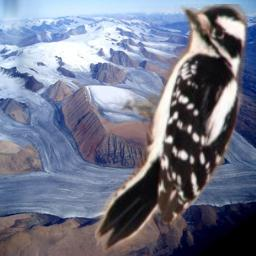Woodpecker: (95, 4, 248, 256)
